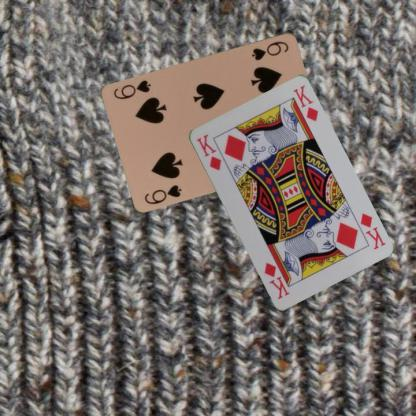6s: (249, 38, 290, 61), (142, 182, 183, 205)
Kd: (357, 210, 387, 252), (193, 131, 222, 172)
